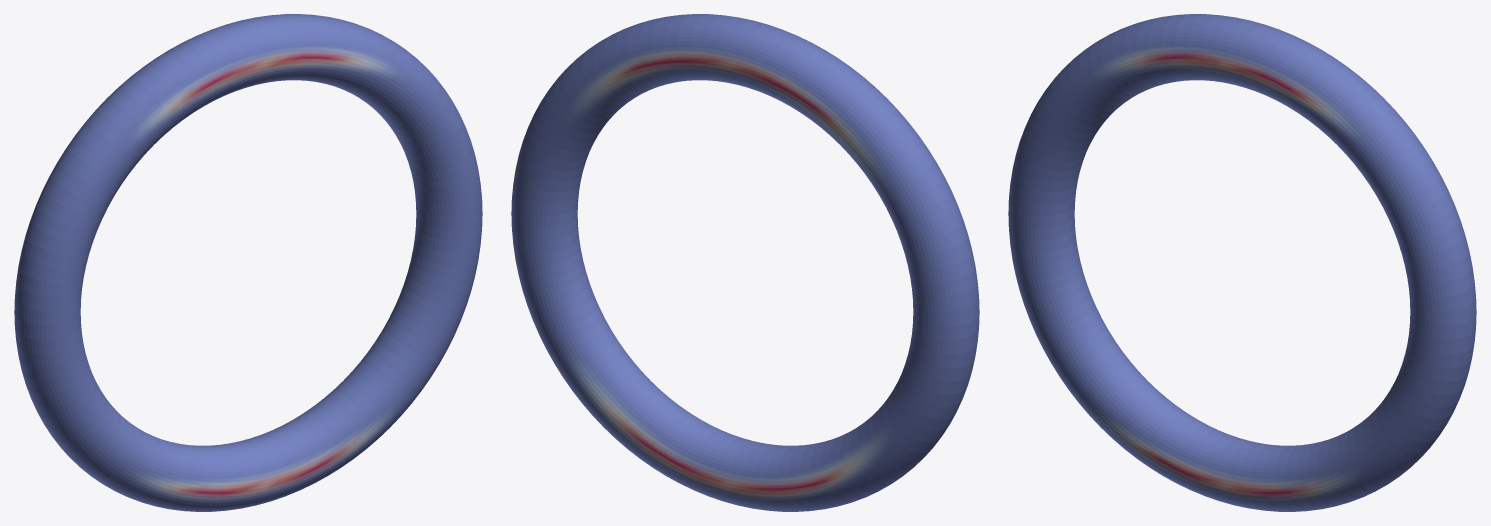
3 renders of one model, left to right at view 1: azimuth 30°, elevation 25°; view 2: azimuth 150°, elevation 25°; view 3: azimuth 330°, elevation 25°, orthographic.
Visible parts, largest first — view 1: world; view 2: world; view 3: world.
Part boxes in pixels (box(x1,y1,x2,y2)): world: box(14, 14, 482, 511); world: box(511, 14, 979, 511); world: box(1008, 14, 1476, 511).
Size of the model in its own units: 16 by 16 by 2.
